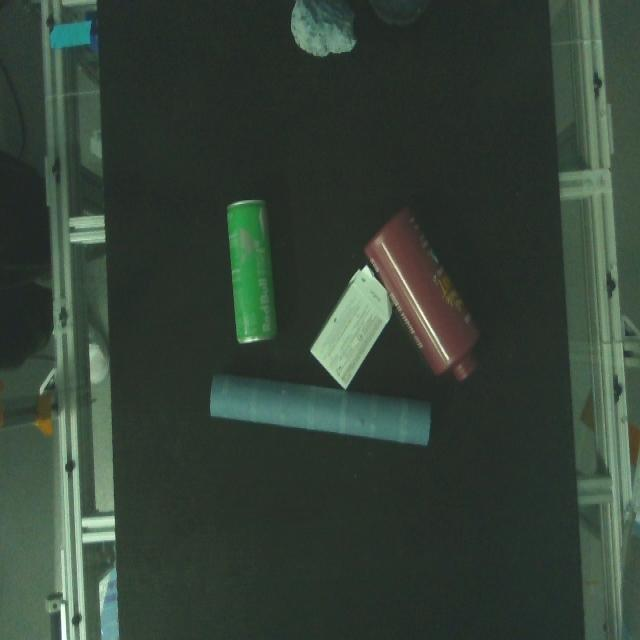non-paper: (361, 200, 489, 391), (224, 192, 286, 345), (285, 0, 359, 67), (364, 0, 441, 32)
paper: (203, 366, 434, 464), (306, 258, 398, 395)
